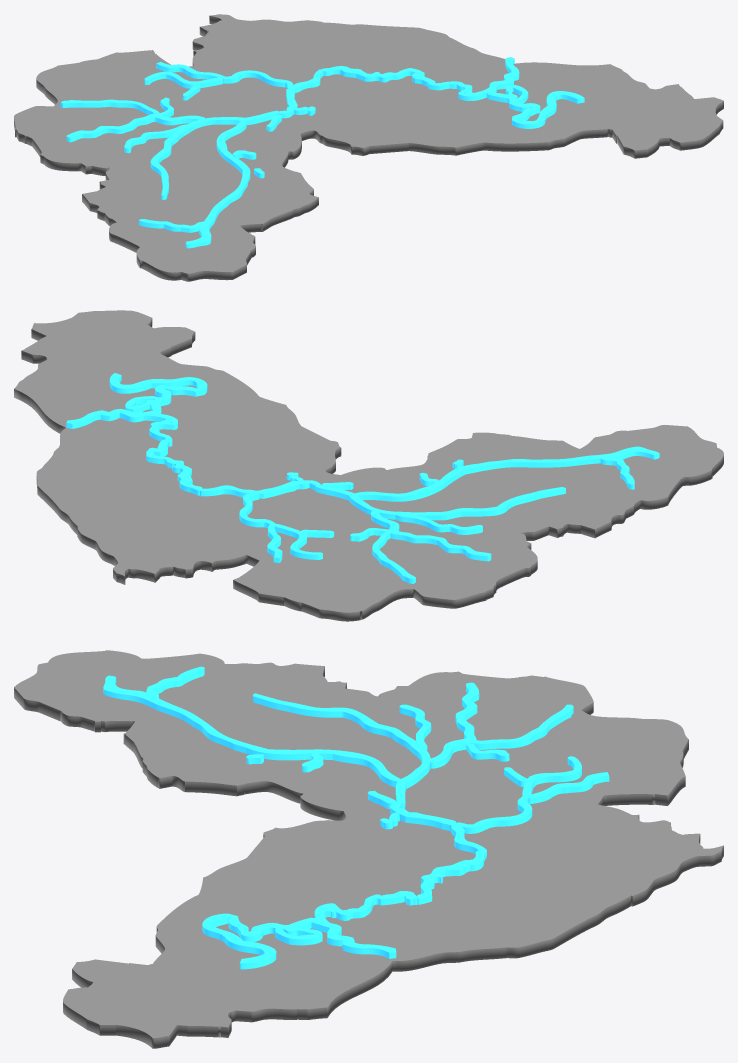
The model's file is TambahSGLangat3D.fbx.
3 views of the same model, one above another, from view 1: azimuth 30°, elevation 25°; view 2: azimuth 150°, elevation 25°; view 3: azimuth 270°, elevation 25° (orthographic). The views are drawn at different scales.
Parts seen in each view (by area): view 1: Color_Fill_1, Color_Fill_SGlangat, Color_Fill_SGsemenyih, Color_Fill_1_SGberanang.001, Color_Fill_Sg_Pajam, Color_Fill_SGbatanglabu, Color_Fill_SGlabu, Color_Fill_SGjijan, Color_Fill_SGlui, Color_Fill_1_SGrinching.001; view 2: Color_Fill_1, Color_Fill_SGlangat, Color_Fill_SGsemenyih, Color_Fill_1_SGberanang.001, Color_Fill_1_SGrinching.001, Color_Fill_Sg_Pajam, Color_Fill_SGbatanglabu, Color_Fill_SGlabu; view 3: Color_Fill_1, Color_Fill_SGlangat, Color_Fill_SGsemenyih, Color_Fill_1_SGberanang.001, Color_Fill_Sg_Pajam, Color_Fill_SGlabu, Color_Fill_SGjijan, Color_Fill_SGbatanglabu, Color_Fill_SGlui, Color_Fill_1_SGrinching.001.
Boxes of the visible parts, box(x1,y1,x2,y2) form: Color_Fill_1: box(14, 14, 723, 281); Color_Fill_SGlangat: box(185, 57, 584, 248); Color_Fill_SGsemenyih: box(150, 110, 279, 199); Color_Fill_1_SGberanang.001: box(66, 113, 204, 142); Color_Fill_Sg_Pajam: box(60, 99, 159, 114); Color_Fill_SGbatanglabu: box(144, 71, 222, 88); Color_Fill_SGlabu: box(221, 70, 293, 88); Color_Fill_SGjijan: box(156, 62, 224, 79); Color_Fill_SGlui: box(139, 219, 202, 232); Color_Fill_1_SGrinching.001: box(124, 124, 189, 153); Color_Fill_1: box(14, 310, 723, 621); Color_Fill_SGlangat: box(66, 373, 659, 501); Color_Fill_SGsemenyih: box(315, 484, 565, 520); Color_Fill_1_SGberanang.001: box(371, 511, 491, 561); Color_Fill_1_SGrinching.001: box(395, 513, 482, 534); Color_Fill_Sg_Pajam: box(372, 530, 415, 583); Color_Fill_SGbatanglabu: box(275, 524, 322, 559); Color_Fill_SGlabu: box(239, 492, 275, 528); Color_Fill_1: box(14, 650, 723, 1048); Color_Fill_SGlangat: box(103, 675, 486, 969); Color_Fill_SGsemenyih: box(253, 693, 430, 808); Color_Fill_1_SGberanang.001: box(430, 682, 479, 768); Color_Fill_Sg_Pajam: box(470, 704, 573, 749); Color_Fill_SGlabu: box(456, 795, 532, 833); Color_Fill_SGjijan: box(526, 772, 609, 803); Color_Fill_SGbatanglabu: box(522, 756, 581, 795); Color_Fill_SGlui: box(146, 666, 204, 698); Color_Fill_1_SGrinching.001: box(399, 704, 431, 750).
Bounding box in the file's own units: 20852 × 535 × 16124.
